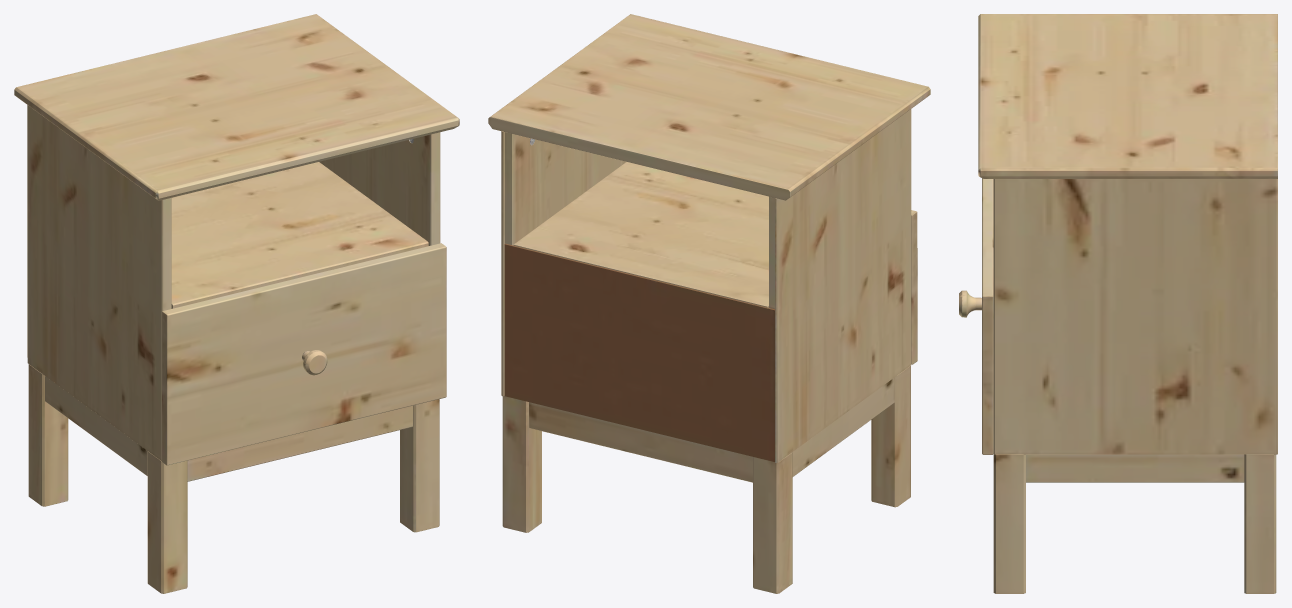
The model's file is BR-NIGHTSTAND-B.glb.
3 renders of one model, left to right at view 1: azimuth 30°, elevation 25°; view 2: azimuth 150°, elevation 25°; view 3: azimuth 270°, elevation 25°, orthographic. The views are drawn at different scales.
Visible parts, largest first — view 1: Mesh_0; view 2: Mesh_0; view 3: Mesh_0.
Boxes of the visible parts, <box> form: Mesh_0: <box>14,14,459,593</box>; Mesh_0: <box>488,14,930,593</box>; Mesh_0: <box>959,14,1277,593</box>.
Size of the model in its own units: 0.4801 by 0.62 by 0.415.
1 material, 1 textured.
